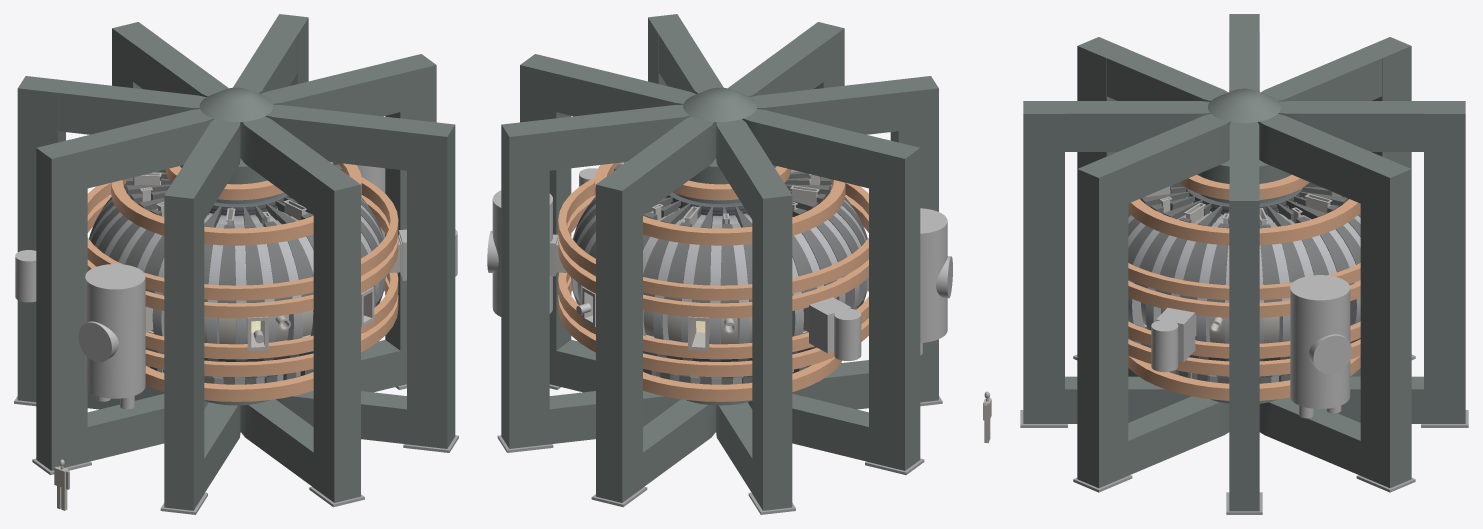
The model's file is jet1983.glb.
3 renders of one model, left to right at view 1: azimuth 30°, elevation 25°; view 2: azimuth 150°, elevation 25°; view 3: azimuth 270°, elevation 25°, orthographic.
Parts seen in each view (by area): view 1: iron_core__outer_limb, iron_core__upper_radial_arm, iron_core__lower_radial_arm, pf_coils__coil4, pump_chamber_oct5__chamber__pump_chamber_oct5, structure__shell_plates, tf_coils__casing, pf_coils__coil3, iron_core__pillar_top_hub__pillar_top_hub, structure__upper_ring_block_plain, pump_chamber_oct5__door__pump_chamber_oct5, iron_core__foot_plate (+6 smaller); view 2: iron_core__outer_limb, iron_core__upper_radial_arm, iron_core__lower_radial_arm, pf_coils__coil4, tf_coils__casing, structure__shell_plates, pf_coils__coil3, pump_chamber_oct5__chamber__pump_chamber_oct5, iron_core__pillar_top_hub__pillar_top_hub, rotary_valve_oct4__valve_body__rotary_valve_oct4, pump_chamber_oct1__chamber__pump_chamber_oct1, nbi_adaptor_oct4__adaptor__nbi_adaptor_oct4 (+6 smaller); view 3: iron_core__outer_limb, iron_core__upper_radial_arm, iron_core__lower_radial_arm, pf_coils__coil4, pump_chamber_oct1__chamber__pump_chamber_oct1, pf_coils__coil3, structure__shell_plates, tf_coils__casing, iron_core__pillar_top_hub__pillar_top_hub, structure__upper_ring_block_plain, pf_coils__coil2, iron_core__foot_plate (+6 smaller).
Part boxes in pixels (bbox=[...]): iron_core__outer_limb: bbox=[17, 14, 455, 510]; iron_core__upper_radial_arm: bbox=[58, 31, 414, 219]; iron_core__lower_radial_arm: bbox=[87, 340, 406, 493]; pf_coils__coil4: bbox=[87, 177, 398, 377]; pump_chamber_oct5__chamber__pump_chamber_oct5: bbox=[85, 264, 145, 398]; structure__shell_plates: bbox=[89, 183, 385, 378]; tf_coils__casing: bbox=[90, 181, 385, 378]; pf_coils__coil3: bbox=[111, 162, 361, 401]; iron_core__pillar_top_hub__pillar_top_hub: bbox=[199, 87, 273, 121]; structure__upper_ring_block_plain: bbox=[126, 162, 334, 228]; pump_chamber_oct5__door__pump_chamber_oct5: bbox=[78, 321, 118, 362]; iron_core__foot_plate: bbox=[14, 384, 458, 514]; iron_core__outer_limb: bbox=[501, 14, 938, 510]; iron_core__upper_radial_arm: bbox=[542, 31, 898, 219]; iron_core__lower_radial_arm: bbox=[549, 340, 868, 493]; pf_coils__coil4: bbox=[558, 177, 868, 377]; tf_coils__casing: bbox=[571, 184, 867, 378]; structure__shell_plates: bbox=[571, 183, 867, 378]; pf_coils__coil3: bbox=[594, 162, 845, 401]; pump_chamber_oct5__chamber__pump_chamber_oct5: bbox=[920, 208, 947, 342]; iron_core__pillar_top_hub__pillar_top_hub: bbox=[683, 87, 756, 121]; rotary_valve_oct4__valve_body__rotary_valve_oct4: bbox=[834, 308, 861, 360]; pump_chamber_oct1__chamber__pump_chamber_oct1: bbox=[492, 190, 552, 316]; nbi_adaptor_oct4__adaptor__nbi_adaptor_oct4: bbox=[809, 297, 851, 353]; iron_core__outer_limb: bbox=[1023, 14, 1465, 511]; iron_core__upper_radial_arm: bbox=[1065, 31, 1423, 203]; iron_core__lower_radial_arm: bbox=[1065, 368, 1423, 475]; pf_coils__coil4: bbox=[1128, 263, 1360, 376]; pump_chamber_oct1__chamber__pump_chamber_oct1: bbox=[1290, 275, 1350, 408]; pf_coils__coil3: bbox=[1128, 199, 1360, 400]; structure__shell_plates: bbox=[1128, 213, 1360, 377]; tf_coils__casing: bbox=[1128, 190, 1360, 377]; iron_core__pillar_top_hub__pillar_top_hub: bbox=[1207, 88, 1281, 122]; structure__upper_ring_block_plain: bbox=[1141, 182, 1347, 226]; pf_coils__coil2: bbox=[1179, 175, 1309, 199]; iron_core__foot_plate: bbox=[1020, 354, 1468, 514].
Bounding box in the file's own units: 16.11 × 12.13 × 14.95.
